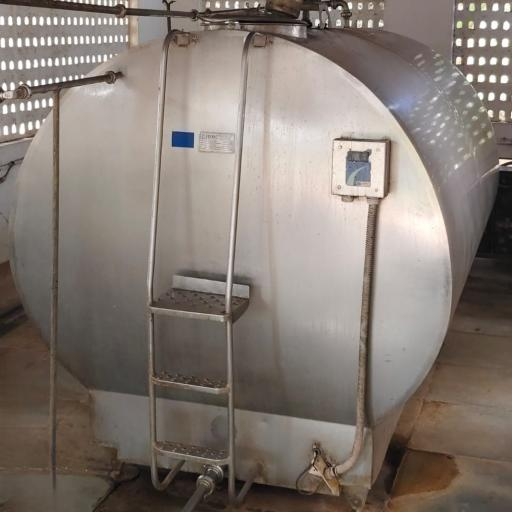silo: (8, 10, 502, 498)
